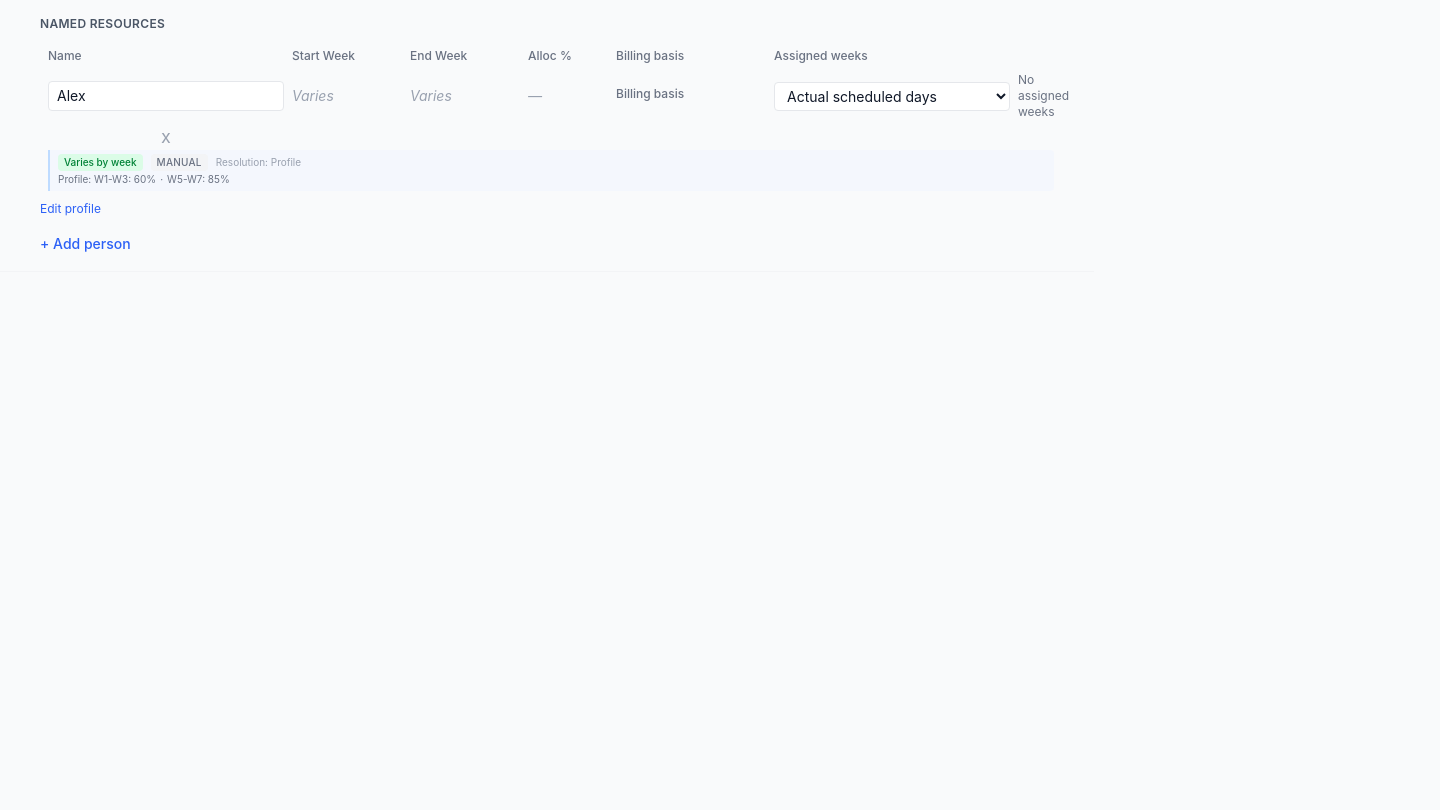
NamedResourcesPanel first-class profile access › opens a manual segmented named-person profile in edit mode
The image size is (1440, 810).
What coordinates should you click on to do the following:
click the button "Edit profile"
I would click on:
 (70, 209)
Its box is [40,201,101,217].
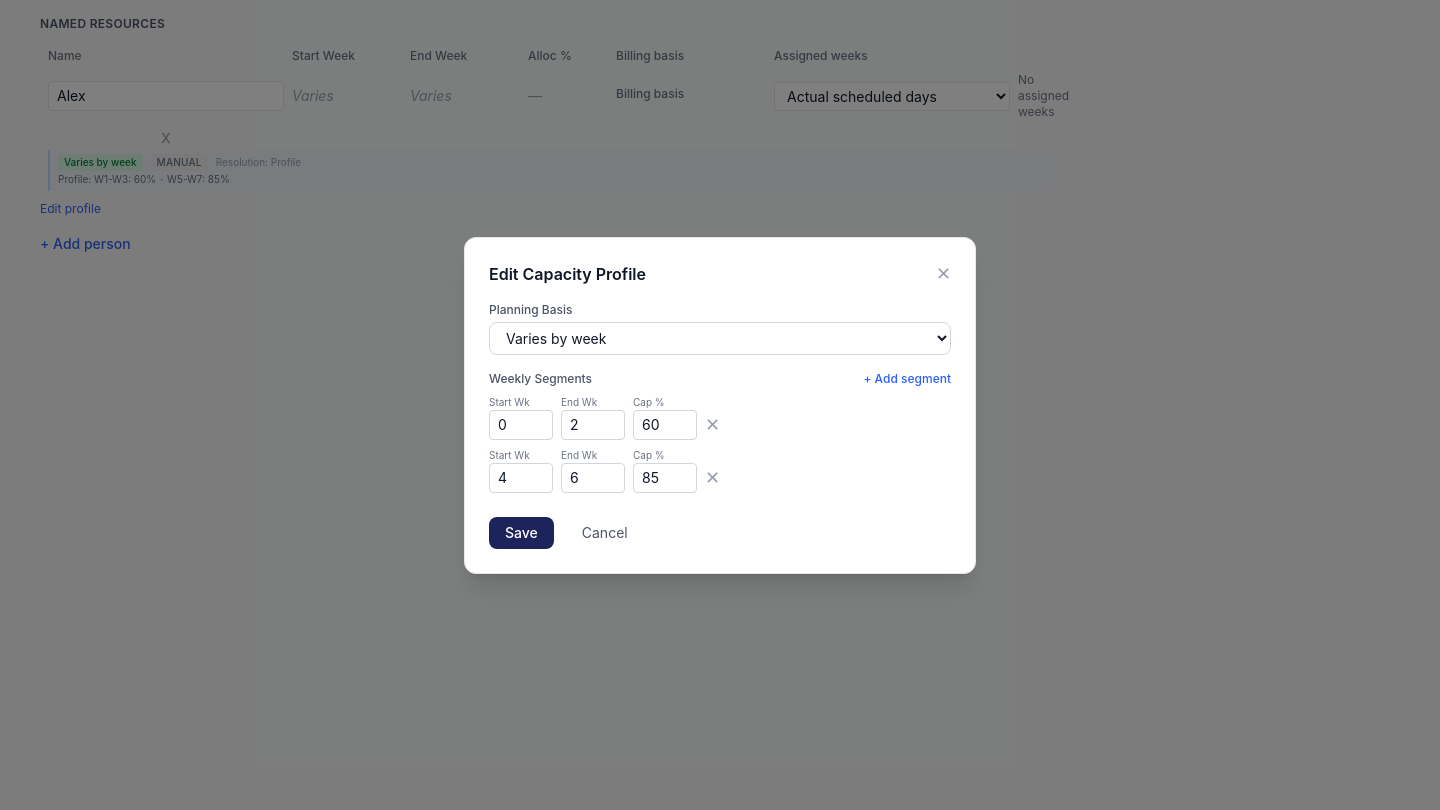
Now the heading "Edit Capacity Profile" is shown, box [489,262,646,286]
Now the number field with test id "cp-seg-pct-0" holds "60", box [633,410,697,440]
Now the number field with test id "cp-seg-start-1" holds "4", box [489,462,553,492]
